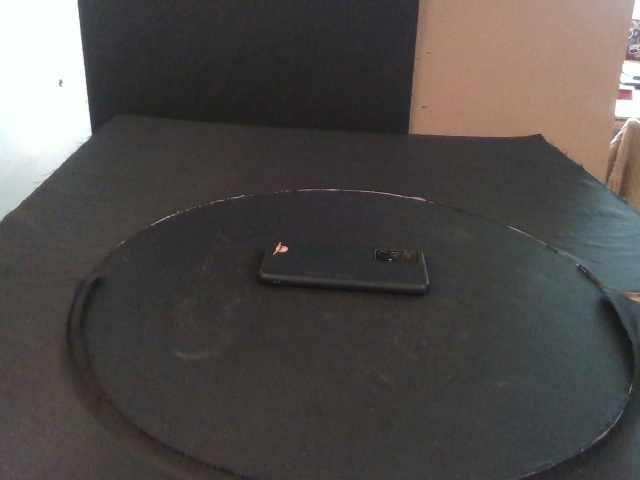phone: (258, 238, 432, 296)
